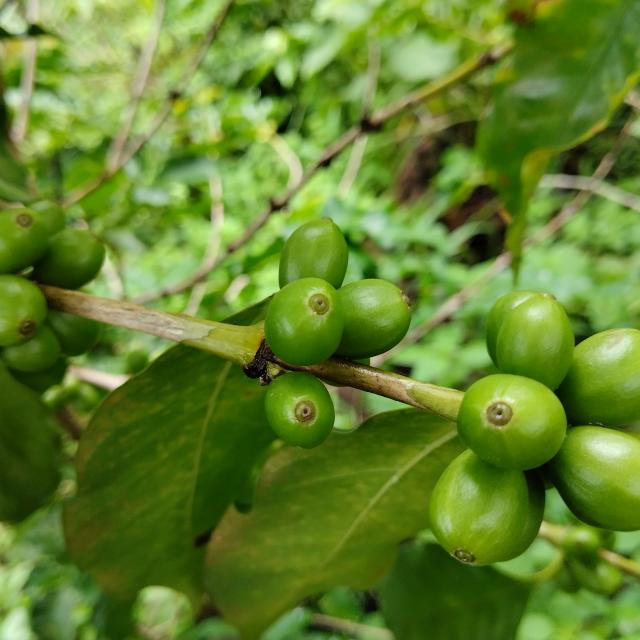green: (430, 449, 546, 567), (458, 374, 568, 471), (550, 426, 640, 532), (556, 329, 640, 427), (497, 293, 576, 391), (264, 277, 345, 366), (335, 279, 412, 359), (265, 372, 335, 449), (279, 217, 349, 289), (487, 290, 540, 367), (0, 275, 46, 346)
